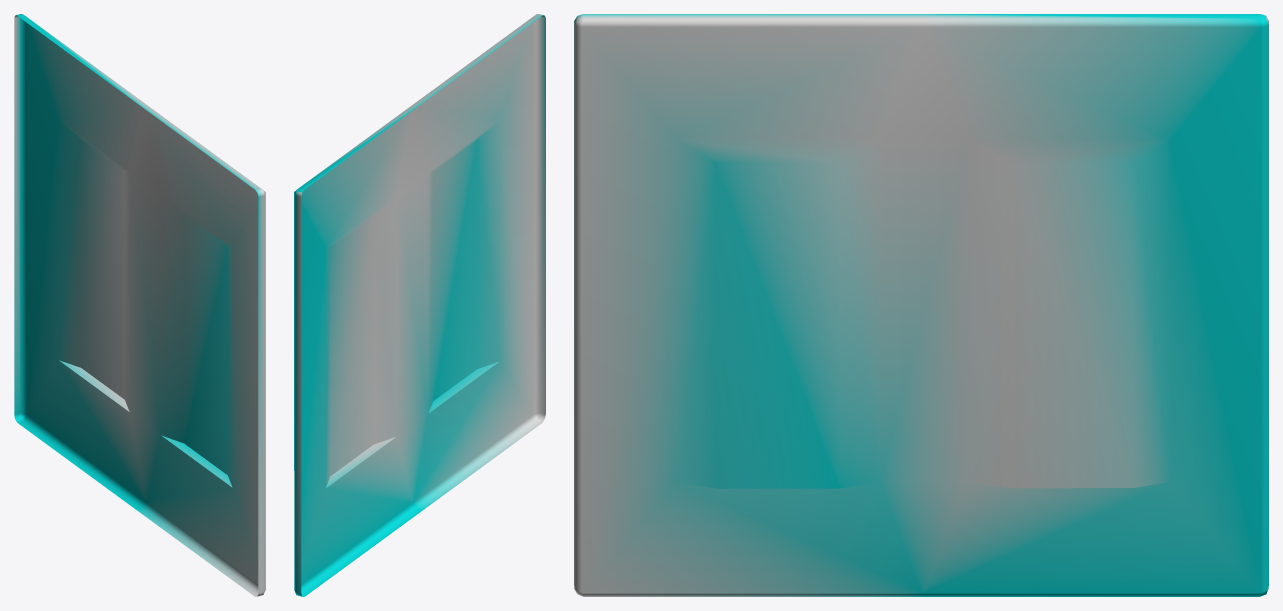
File: SM_vent_03.fbx
The picture shows the model from 3 angles, left to right: view 1: azimuth 30°, elevation 25°; view 2: azimuth 150°, elevation 25°; view 3: azimuth 270°, elevation 25°; orthographic projection. The views are drawn at different scales.
Parts seen in each view (by area): view 1: SM_vent_03; view 2: SM_vent_03; view 3: SM_vent_03.
Part boxes in pixels (x1,y1,x2,y2): SM_vent_03: (14, 14, 265, 596); SM_vent_03: (294, 14, 545, 596); SM_vent_03: (574, 14, 1268, 596).
Size of the model in its own units: 1.72 by 38.01 by 34.95.
